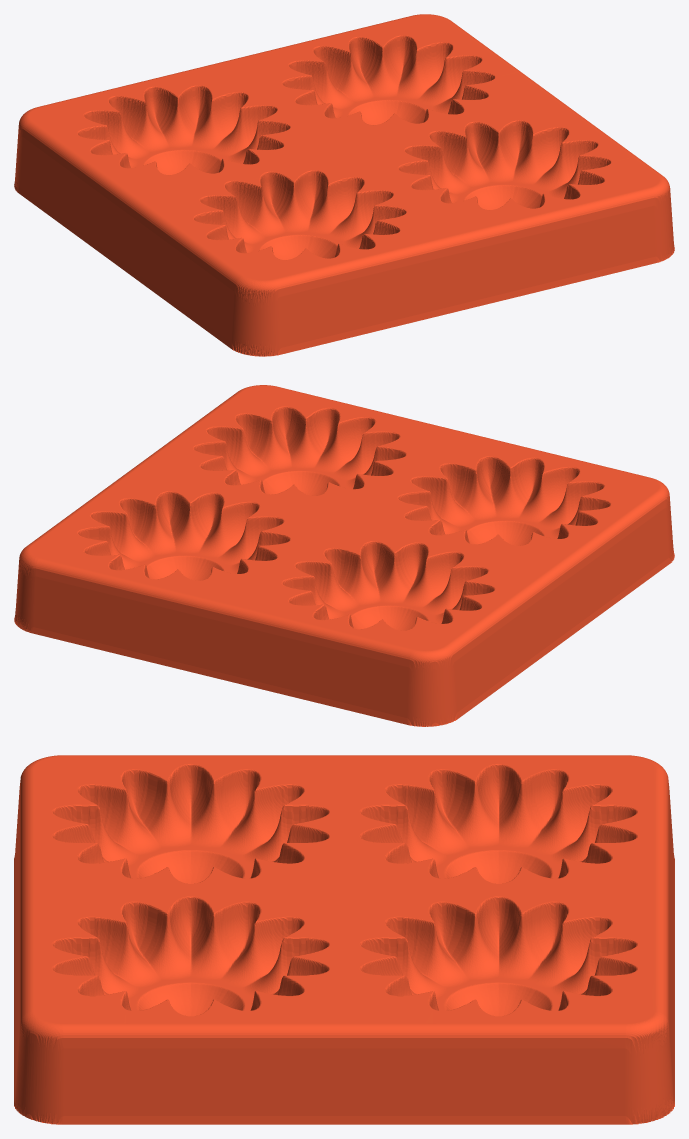
File: mold.glb
3 views of the same model, one above another, from view 1: azimuth 30°, elevation 25°; view 2: azimuth 150°, elevation 25°; view 3: azimuth 270°, elevation 25° (orthographic). The views are drawn at different scales.
Parts seen in each view (by area): view 1: geometry_0; view 2: geometry_0; view 3: geometry_0.
Boxes of the visible parts, left/top/right/bottom form: geometry_0: left=14, top=14, right=674, bottom=356; geometry_0: left=14, top=385, right=674, bottom=726; geometry_0: left=14, top=755, right=674, bottom=1124.
Bounding box in the file's own units: 0.1218 × 0.0185 × 0.1198.
